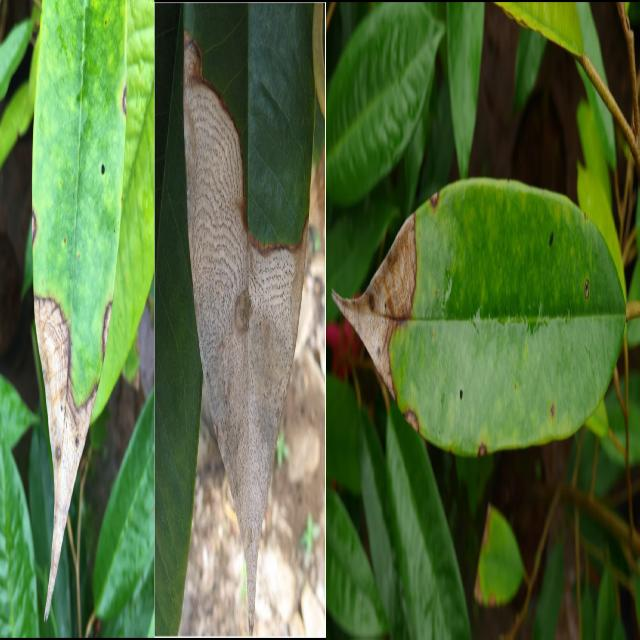blight: (185, 5, 308, 555), (31, 219, 105, 604), (347, 200, 445, 386)
